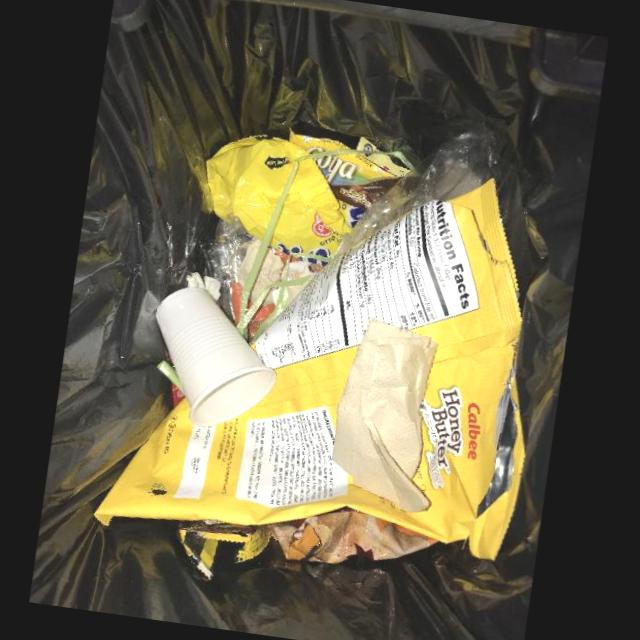bao_bi_thuc_pham: (96, 182, 522, 561), (204, 136, 352, 264), (289, 129, 402, 210), (267, 511, 439, 564), (175, 520, 271, 580)
giay: (332, 319, 438, 514)
hop_nhua: (155, 287, 277, 428)
